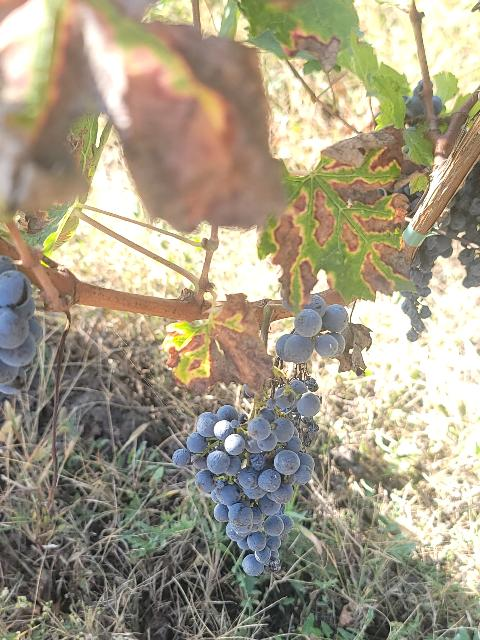grapes: (172, 388, 319, 576)
